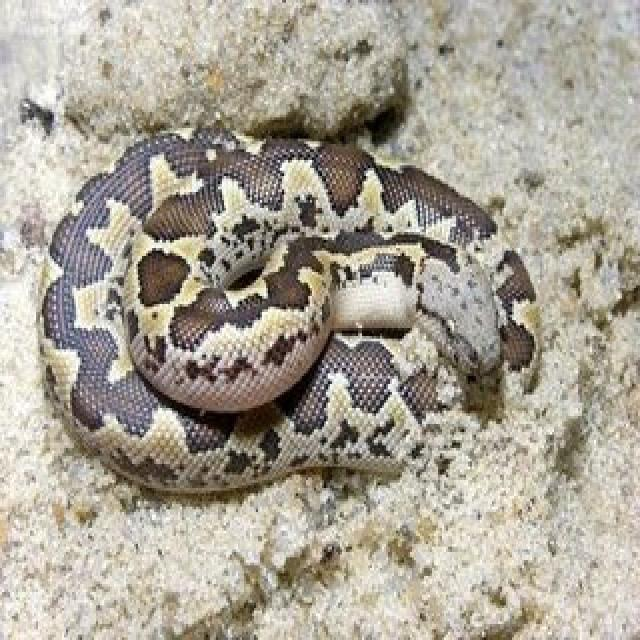Snake: (34, 120, 540, 496)
